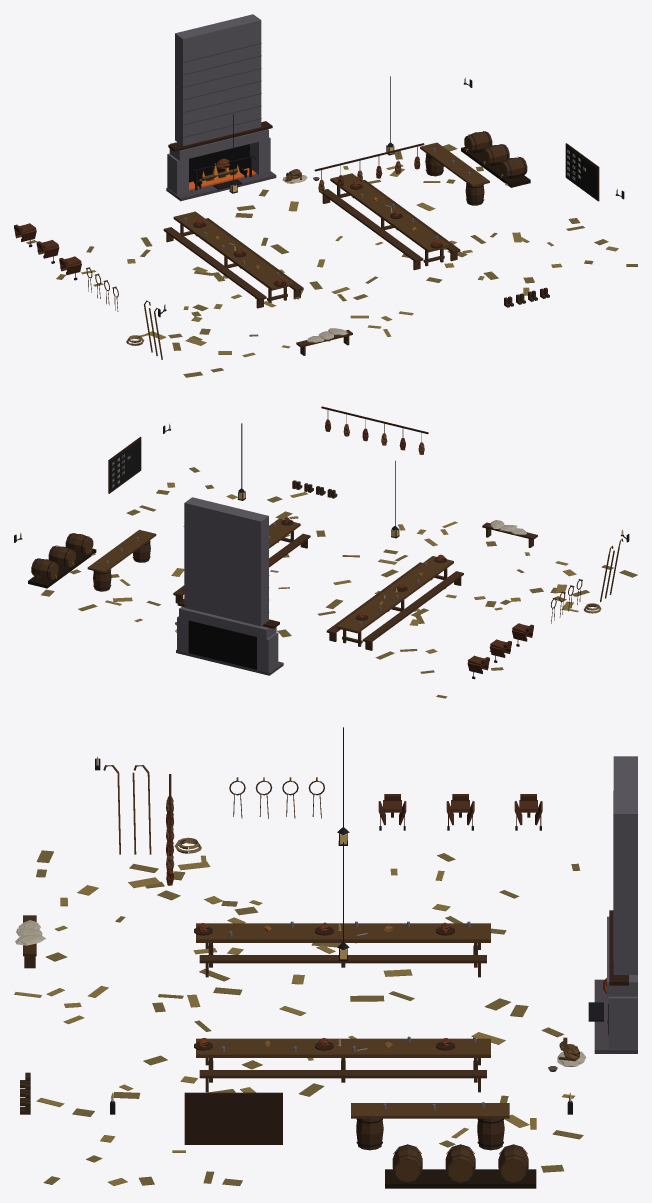
Rendered from drovers-rest.glb.
The picture shows the model from 3 angles, top to bottom: view 1: azimuth 30°, elevation 25°; view 2: azimuth 150°, elevation 25°; view 3: azimuth 270°, elevation 25°; orthographic projection. The views are drawn at different scales.
Visible parts, largest first — view 1: drovers-rest; view 2: drovers-rest; view 3: drovers-rest.
Part boxes in pixels (x1=…): drovers-rest: x1=14, y1=14, x2=637, y2=377; drovers-rest: x1=14, y1=406, x2=637, y2=698; drovers-rest: x1=14, y1=727, x2=637, y2=1188.
Size of the model in its own units: 21.65 by 6.82 by 16.5.
